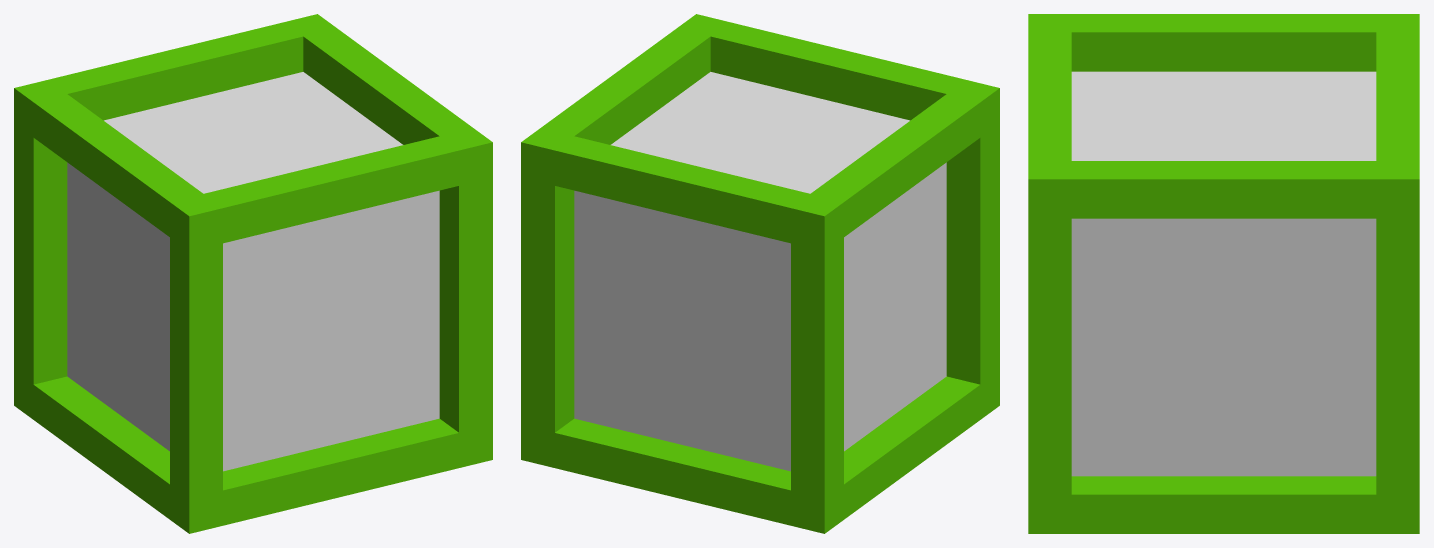
Rendered from classroom_blockGREEN_v2.fbx.
3 renders of one model, left to right at view 1: azimuth 30°, elevation 25°; view 2: azimuth 150°, elevation 25°; view 3: azimuth 270°, elevation 25°, orthographic. The views are drawn at different scales.
Visible parts, largest first — view 1: pCube18; view 2: pCube18; view 3: pCube18.
Part boxes in pixels (x1,y1,x2,y2): pCube18: (14,14,492,533); pCube18: (521,14,999,533); pCube18: (1028,14,1419,533).
Size of the model in its own units: 1 by 1 by 1.
